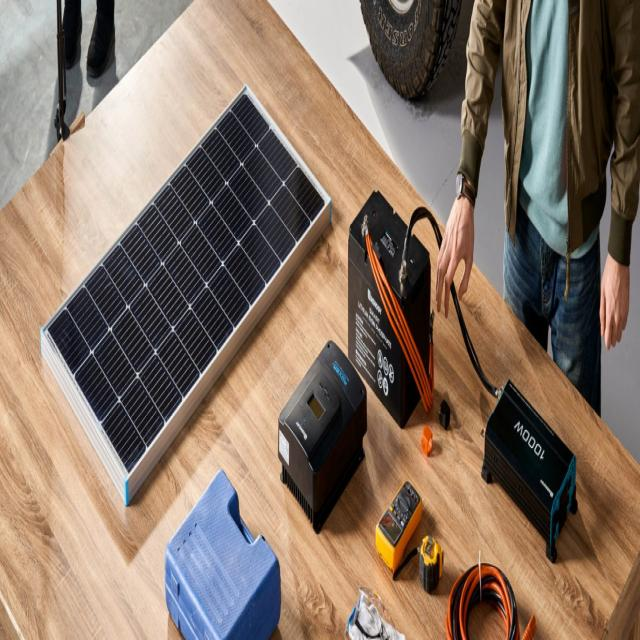no faulty: (49, 84, 323, 471)
